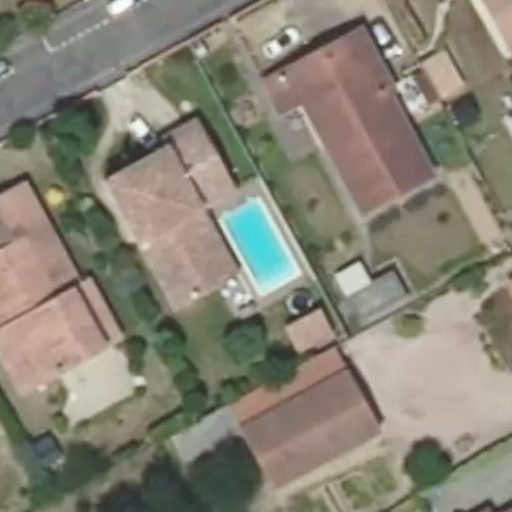pool: (217, 214, 294, 269)
